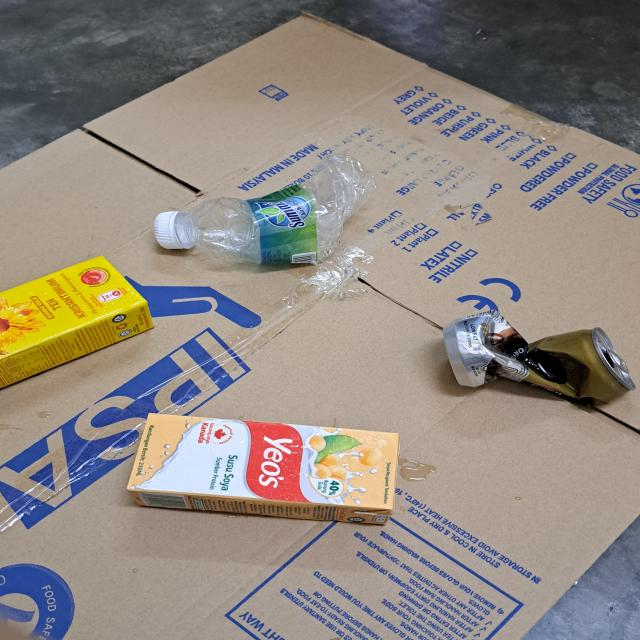can: (436, 312, 633, 414)
cardboard: (0, 14, 640, 639)
drink carton: (135, 406, 401, 531), (0, 243, 147, 381)
plastic bottle: (183, 150, 373, 269)
plastic bottle cap: (152, 203, 179, 246)
